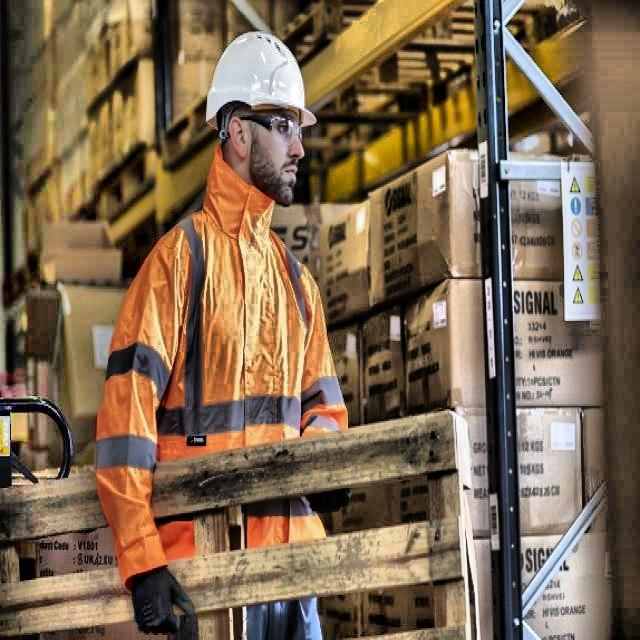person: (91, 26, 365, 640)
